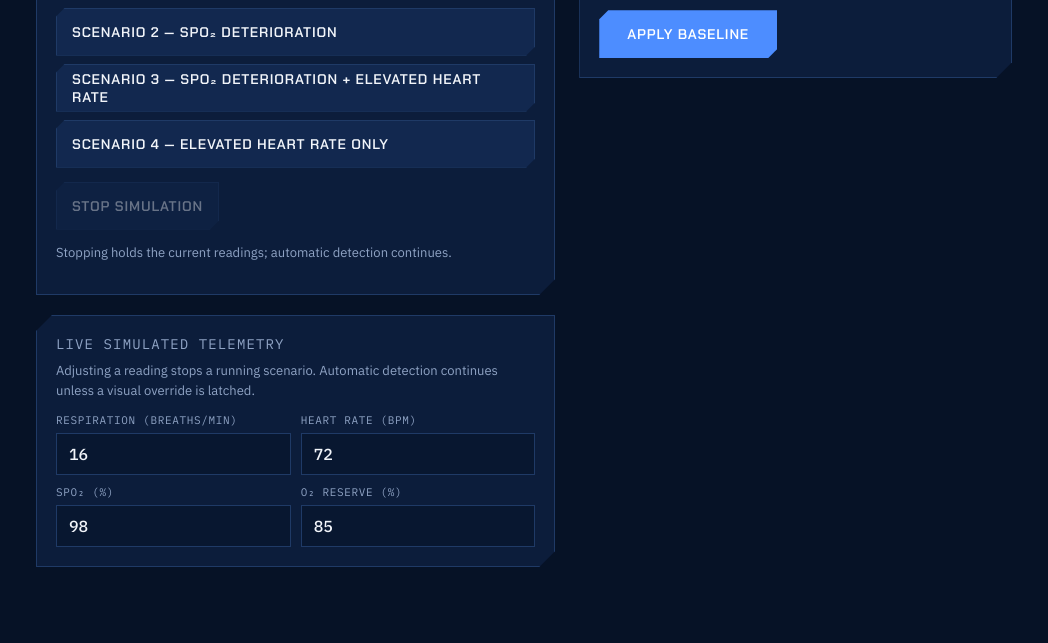
it: dual astronaut HUD perspectives › preserves separate telemetry/baselines and the EVA stopwatch across perspective switches
(page scrolled)
Replace the text in the number field labelled "HEART RATE (BPM)" with "88". click: (418, 454)
box: [301,433,535,475]
Replace the text in the number field labelled "SpO₂ (%)" with "97". click: (173, 526)
box: [56,505,291,547]
Wait 2000 ms
(page scrolled)
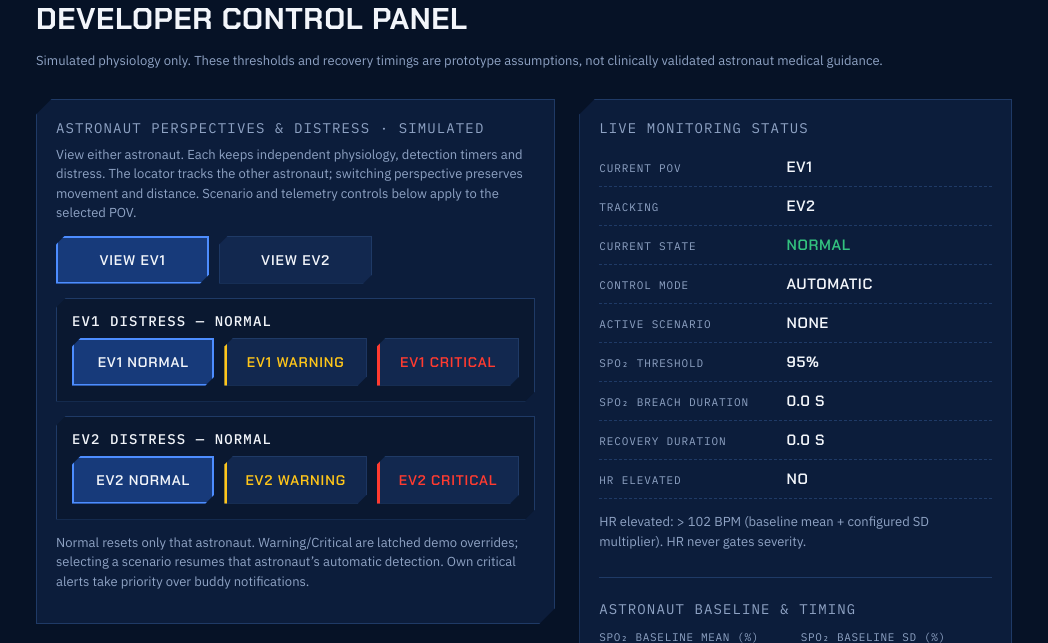
Click the button "View EV2". click: (296, 260)
box: [219,236,372,284]
(page scrolled)
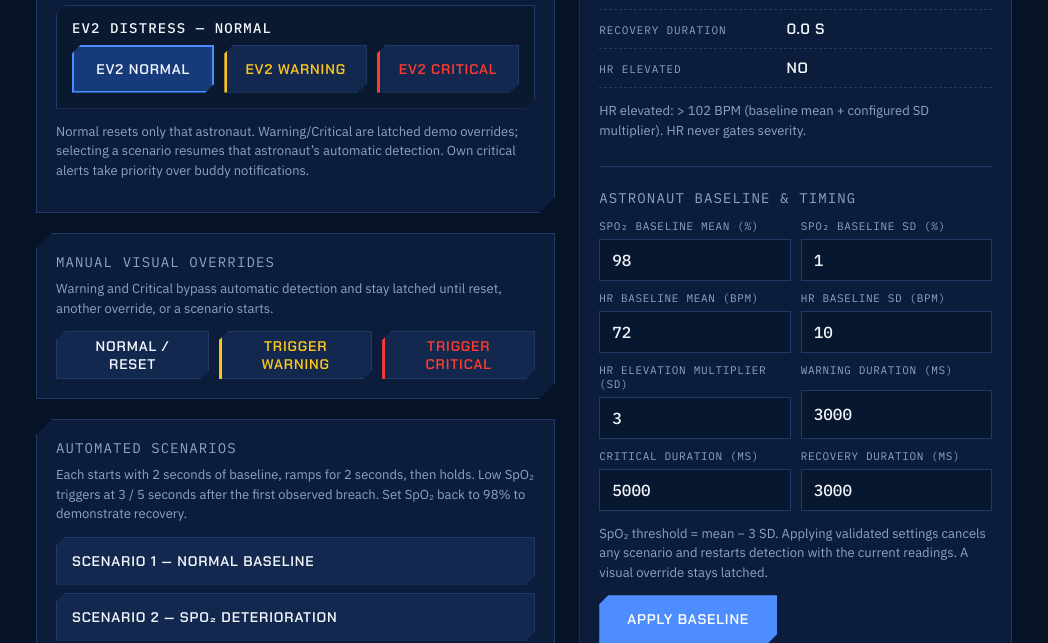
Replace the text in the number field labelled "SpO₂ baseline SD (%)" with "2". click: (896, 260)
box: [801,239,992,281]
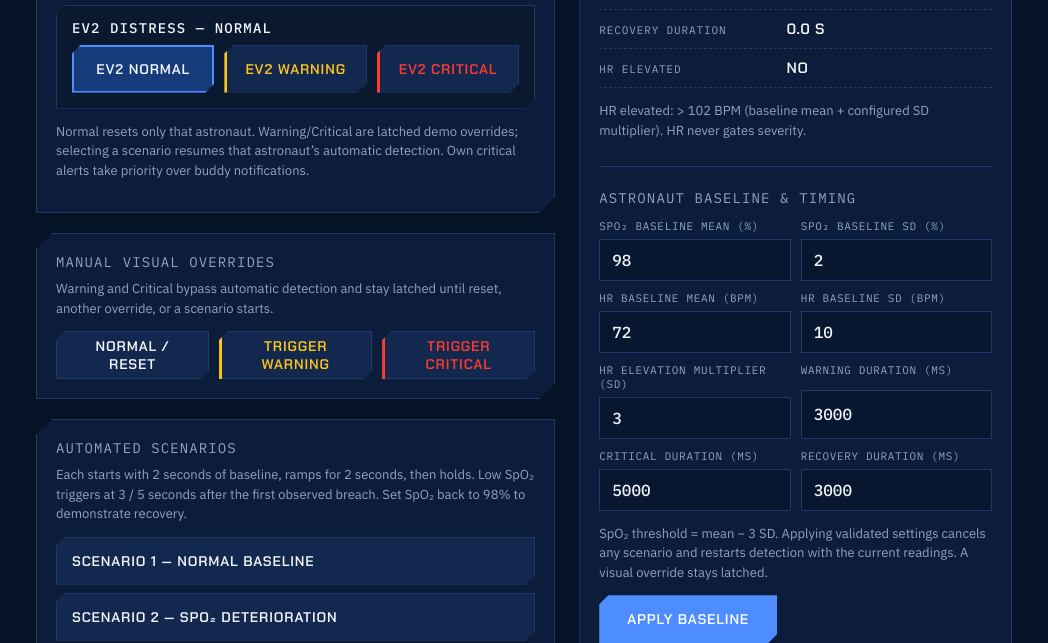
Click the button "Apply Baseline". click: (688, 619)
box: [599,595,777,642]
(page scrolled)
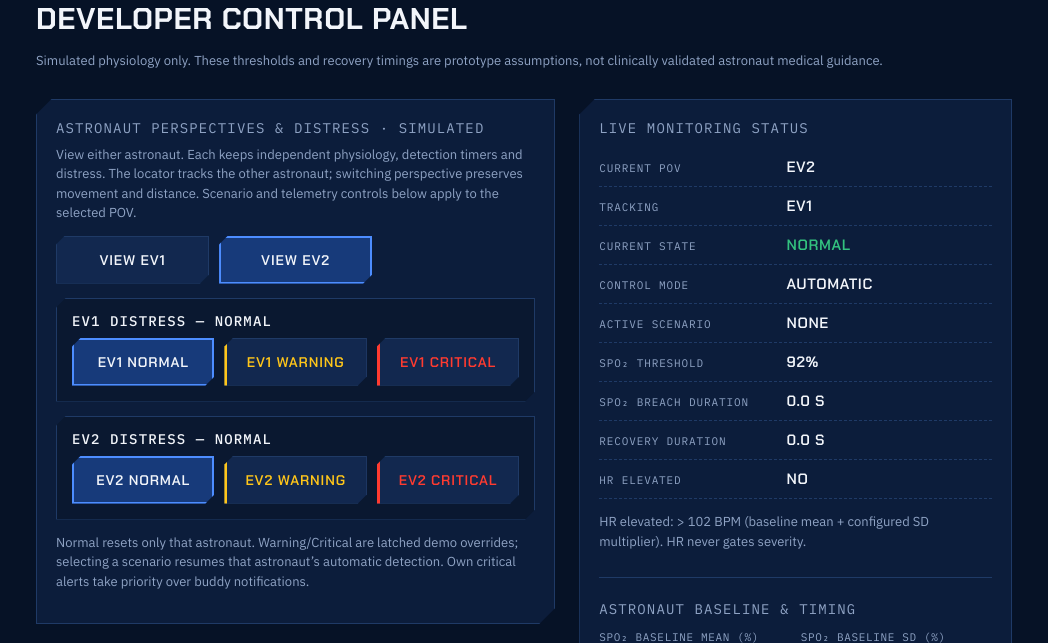
expect the text with test id "SpO₂ Threshold" reads "92%": met, box [786,352,819,372]
Click the button "View EV1". click: (133, 260)
box: [56,236,209,284]
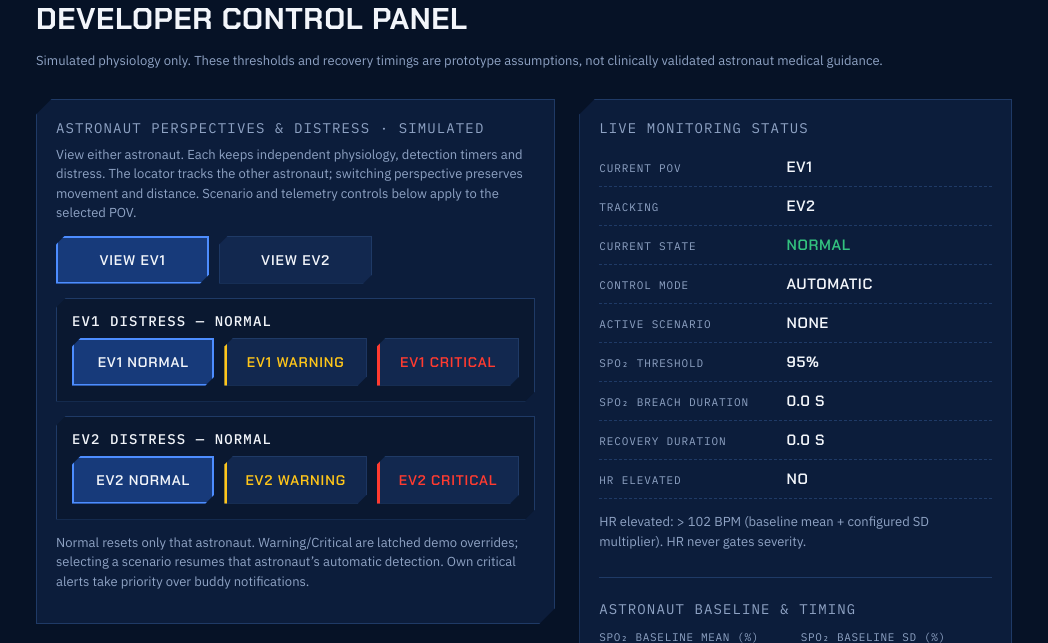
expect the text with test id "SpO₂ Threshold" reads "95%": met, box [786,352,820,372]
Click the button "View EV2". click: (296, 260)
box: [219,236,372,284]
(page scrolled)
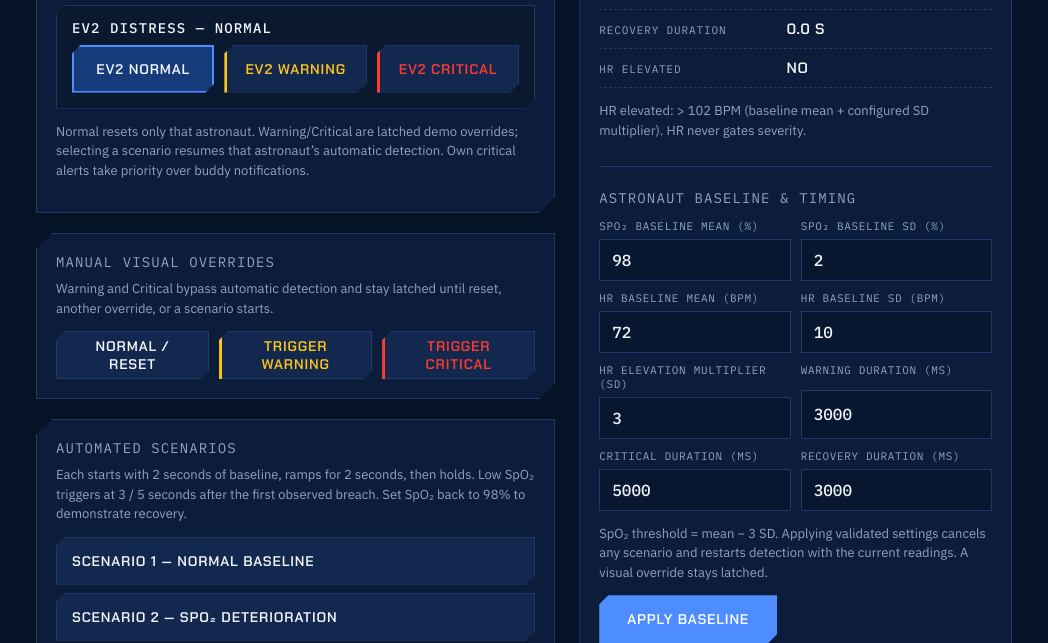
expect the number field labelled "SpO₂ baseline SD (%)" holds "2": met, box [801,239,992,281]
